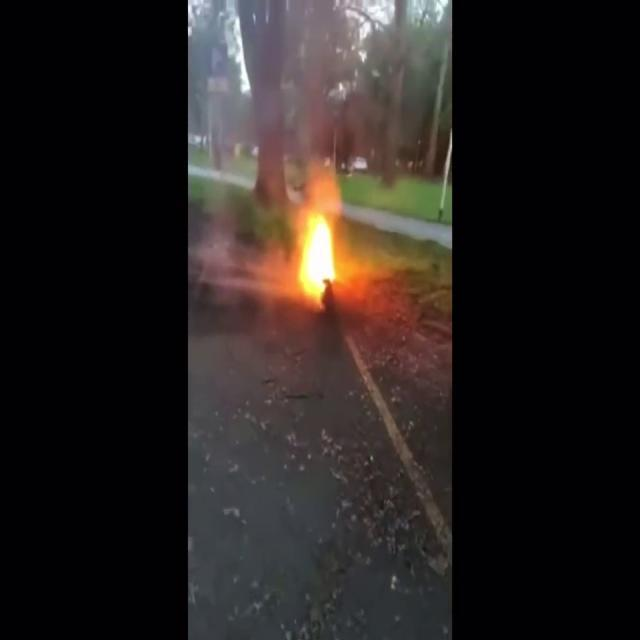Fire: (294, 200, 340, 296)
Smoke: (192, 0, 450, 170)
